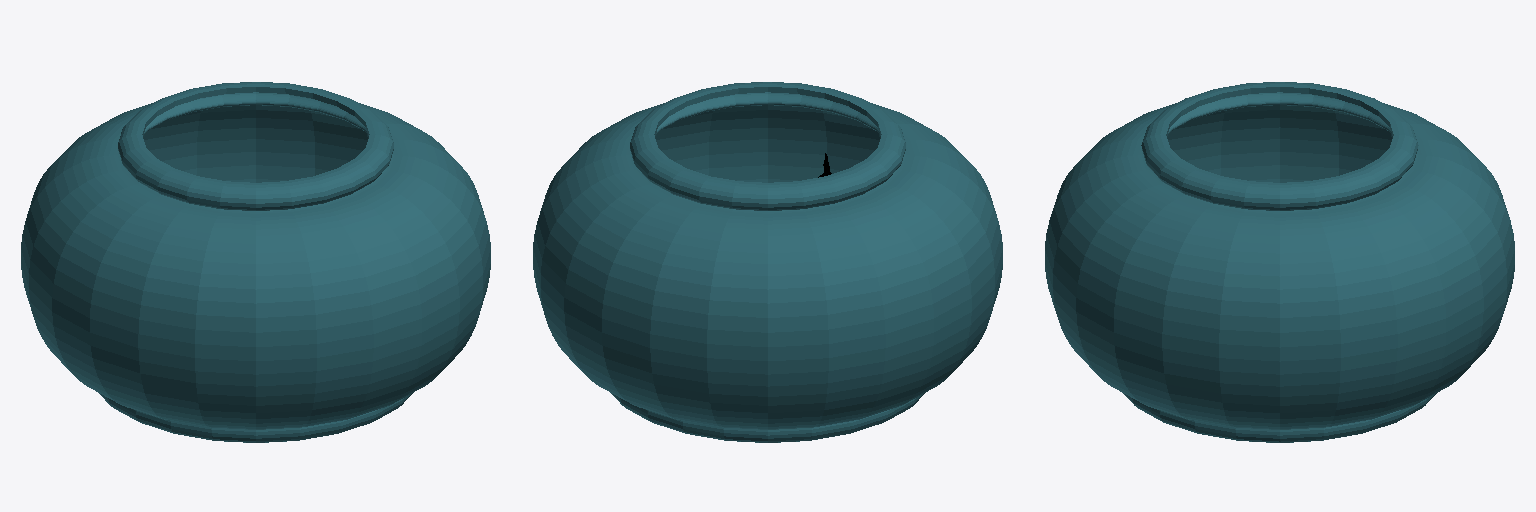
File: FishForSketchFab.obj
3 renders of one model, left to right at view 1: azimuth 30°, elevation 25°; view 2: azimuth 150°, elevation 25°; view 3: azimuth 270°, elevation 25°, orthographic.
Parts seen in each view (by area): view 1: FishBowl; view 2: FishBowl; view 3: FishBowl.
Boxes of the visible parts, <box> form: FishBowl: <box>21,82,490,442</box>; FishBowl: <box>533,82,1002,442</box>; FishBowl: <box>1045,82,1514,442</box>.
Bounding box in the file's own units: 23.1 × 13.15 × 23.1.